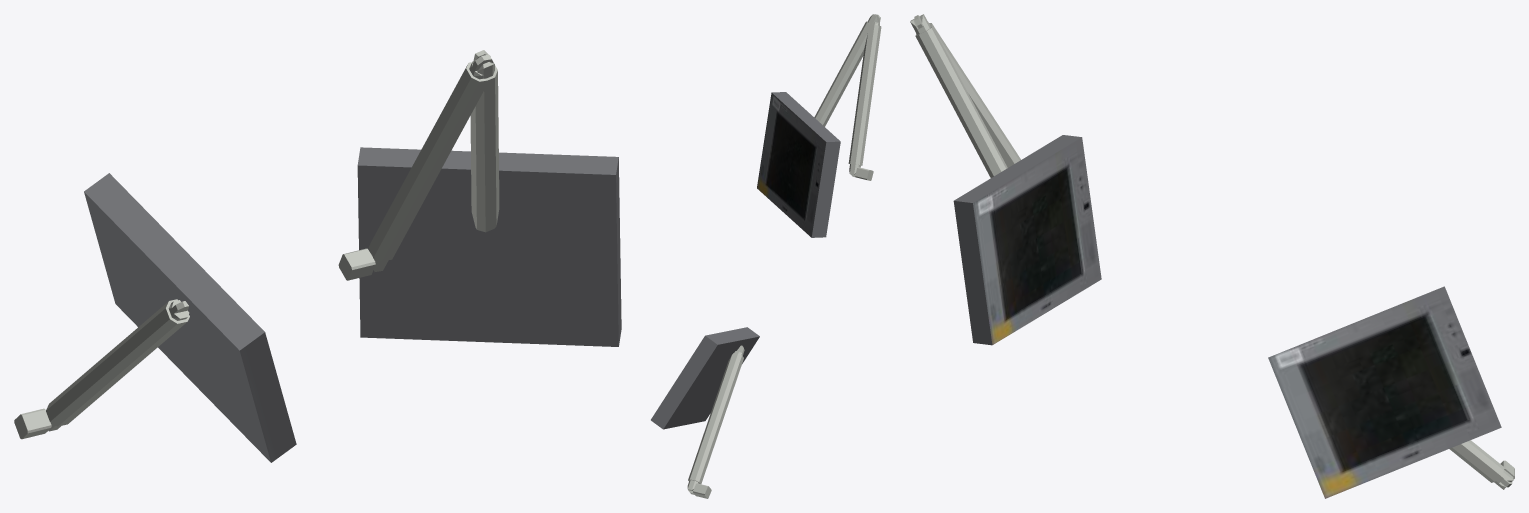
File: USLab_MSG_Detail.dae
The picture shows the model from 3 angles, left to right: view 1: azimuth 30°, elevation 25°; view 2: azimuth 150°, elevation 25°; view 3: azimuth 270°, elevation 25°; orthographic projection. The views are drawn at different scales.
Parts seen in each view (by area): view 1: node; view 2: node; view 3: node.
Boxes of the visible parts, box(x1,y1,x2,y2) form: node: box(14, 50, 621, 462); node: box(651, 14, 881, 498); node: box(910, 14, 1514, 498).
Size of the model in its own units: 0.4553 by 1.15 by 1.29.
2 materials, 2 textured.
